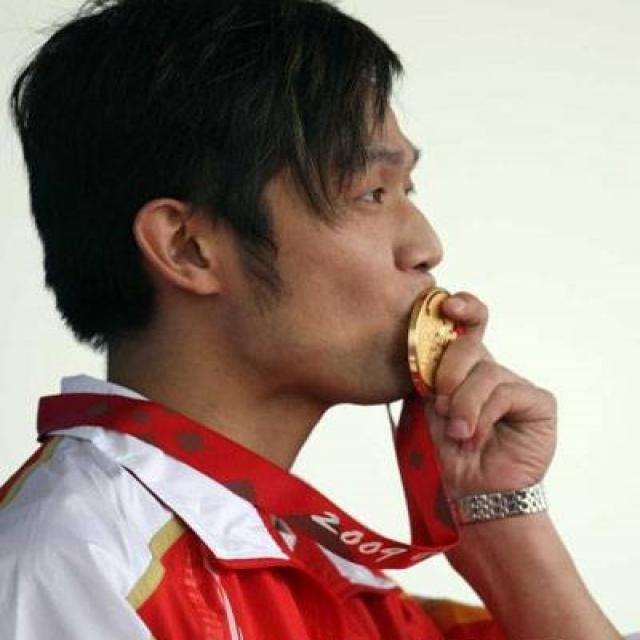nomask: (222, 60, 440, 402)
